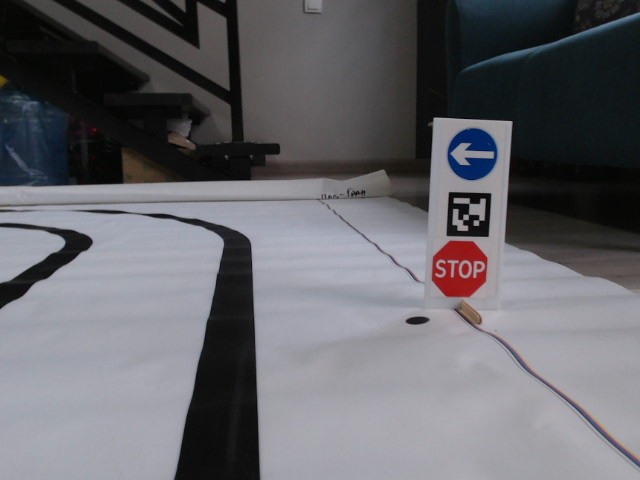Stop: (434, 237, 495, 300)
